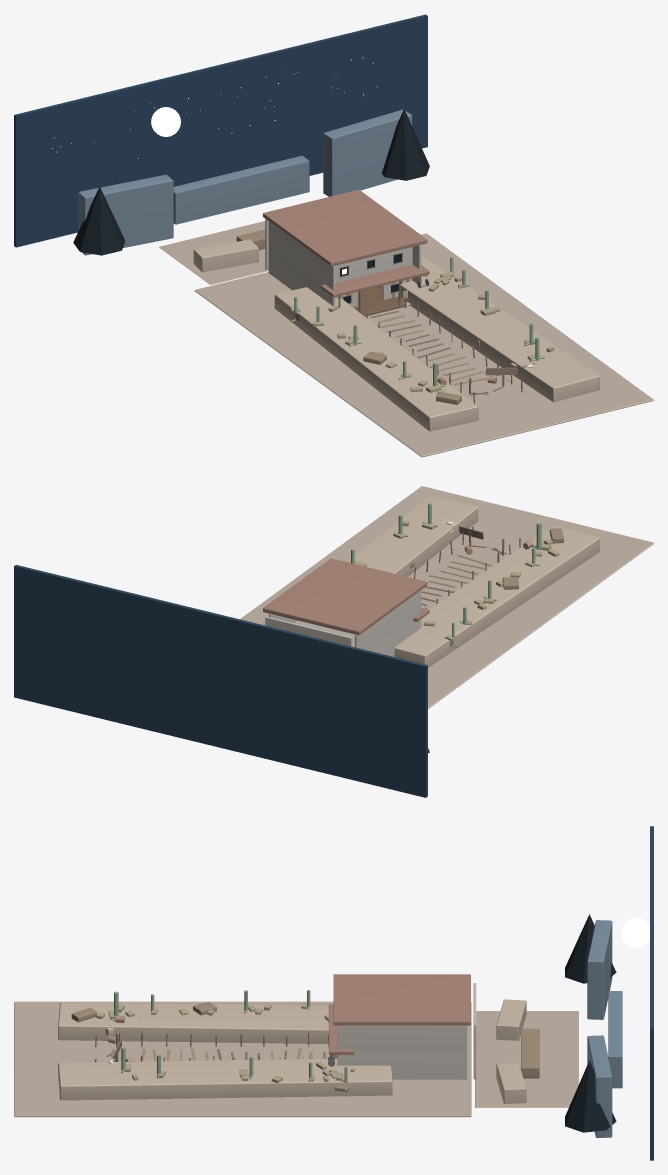
File: pensao_santa_luzia_vertical_slice_v01.glb
The picture shows the model from 3 angles, top to bottom: view 1: azimuth 30°, elevation 25°; view 2: azimuth 150°, elevation 25°; view 3: azimuth 270°, elevation 25°; orthographic projection.
Visible parts, largest first — view 1: bg_dark_sky_wall, ground_base_world, cliff_left_main, cliff_right_main, pension_roof_main, bg_mountain_center_low, bg_mountain_right_big, bg_mountain_left_big, rear_ground_behind_pension, bg_peak_left, bg_peak_right, pension_left_second_wall (+5 smaller); view 2: bg_dark_sky_wall, ground_base_world, cliff_left_main, pension_roof_main, cliff_right_main, pension_left_second_wall, pension_back_second_wall, pension_left_wall; view 3: ground_base_world, cliff_right_main, cliff_left_main, rear_ground_behind_pension, pension_roof_main, pension_right_second_wall, pension_right_wall, bg_mountain_left_big, bg_peak_right, bg_mountain_right_big, bg_mountain_center_low, bg_dark_sky_wall (+5 smaller).
Part boxes in pixels (bbox=[...]): bg_dark_sky_wall: bbox=[14, 14, 427, 247]; ground_base_world: bbox=[194, 233, 653, 457]; cliff_left_main: bbox=[274, 287, 478, 431]; cliff_right_main: bbox=[400, 258, 599, 402]; pension_roof_main: bbox=[263, 189, 427, 266]; bg_mountain_center_low: bbox=[173, 155, 309, 224]; bg_mountain_right_big: bbox=[323, 109, 412, 196]; bg_mountain_left_big: bbox=[78, 174, 173, 255]; rear_ground_behind_pension: bbox=[159, 221, 268, 284]; bg_peak_left: bbox=[73, 186, 125, 255]; bg_peak_right: bbox=[382, 109, 429, 180]; pension_left_second_wall: bbox=[268, 221, 335, 290]; bg_dark_sky_wall: bbox=[14, 565, 427, 797]; ground_base_world: bbox=[240, 486, 653, 708]; cliff_left_main: bbox=[394, 525, 599, 667]; pension_roof_main: bbox=[263, 558, 427, 635]; cliff_right_main: bbox=[347, 496, 478, 576]; pension_left_second_wall: bbox=[354, 590, 421, 650]; pension_back_second_wall: bbox=[265, 616, 352, 646]; pension_left_wall: bbox=[370, 619, 421, 656]; ground_base_world: bbox=[14, 1001, 471, 1117]; cliff_right_main: bbox=[58, 1058, 392, 1100]; cliff_left_main: bbox=[58, 1002, 328, 1043]; rear_ground_behind_pension: bbox=[475, 1011, 578, 1107]; pension_roof_main: bbox=[333, 974, 470, 1025]; pension_right_second_wall: bbox=[337, 1025, 467, 1050]; pension_right_wall: bbox=[337, 1051, 467, 1079]; bg_mountain_left_big: bbox=[587, 920, 612, 1019]; bg_peak_right: bbox=[565, 1060, 616, 1132]; bg_mountain_right_big: bbox=[587, 1035, 612, 1137]; bg_mountain_center_low: bbox=[608, 991, 622, 1088]; bg_dark_sky_wall: bbox=[650, 826, 653, 1160].
Bounding box in the file's own units: 46 × 14.1 × 61.52.
